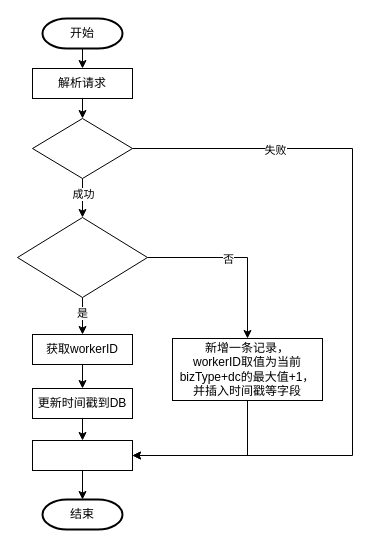
The diagram is 378 pixels wide and 547 high, and some of its shapes have lost their labels. The shapes that lost their labels are listed below. From the top down, each one's centre as x and y in pixels, then its label:
At pixel 82 148: "参数校验".
At pixel 82 257: "DB是否存在 该节点记录？".
At pixel 82 455: "构造应答".
